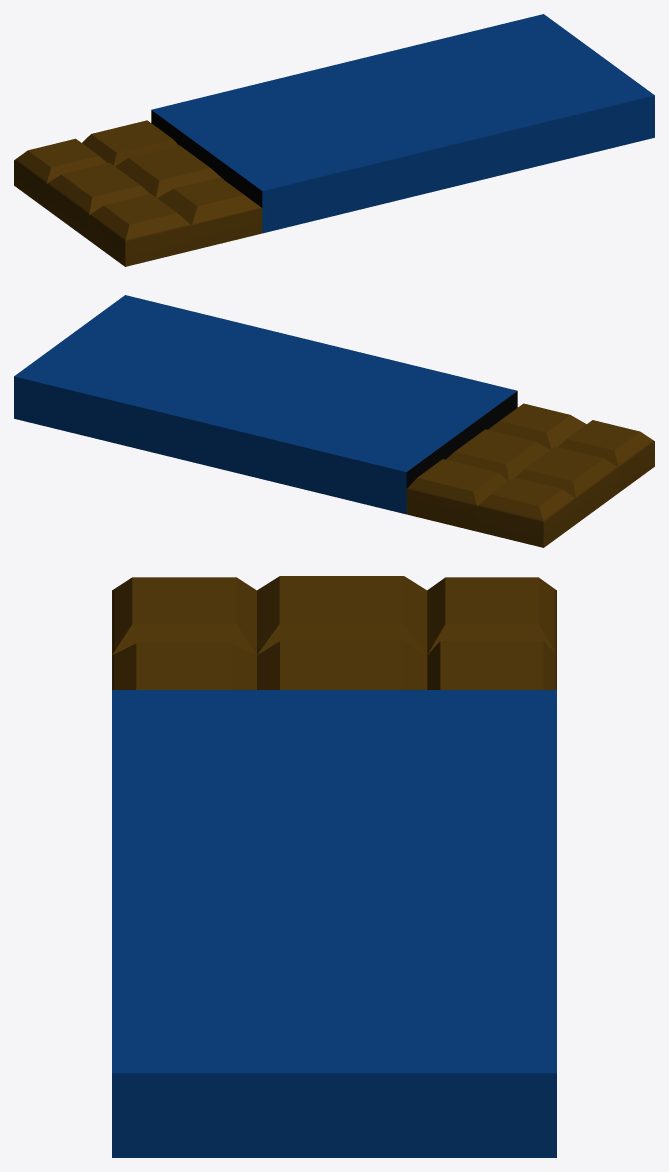
File: CandyBar.fbx
3 views of the same model, one above another, from view 1: azimuth 30°, elevation 25°; view 2: azimuth 150°, elevation 25°; view 3: azimuth 270°, elevation 25° (orthographic). The views are drawn at different scales.
Parts seen in each view (by area): view 1: pCube2; view 2: pCube2; view 3: pCube2.
Boxes of the visible parts, <box> form: pCube2: <box>14,14,654,266</box>; pCube2: <box>14,295,654,547</box>; pCube2: <box>112,576,556,1157</box>.
Bounding box in the file's own units: 22 × 1.68 × 8.
